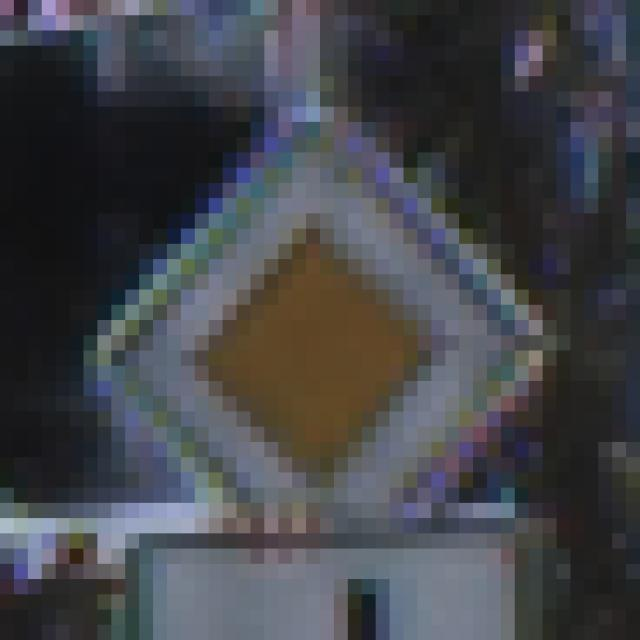Main Road: (85, 77, 572, 550)
